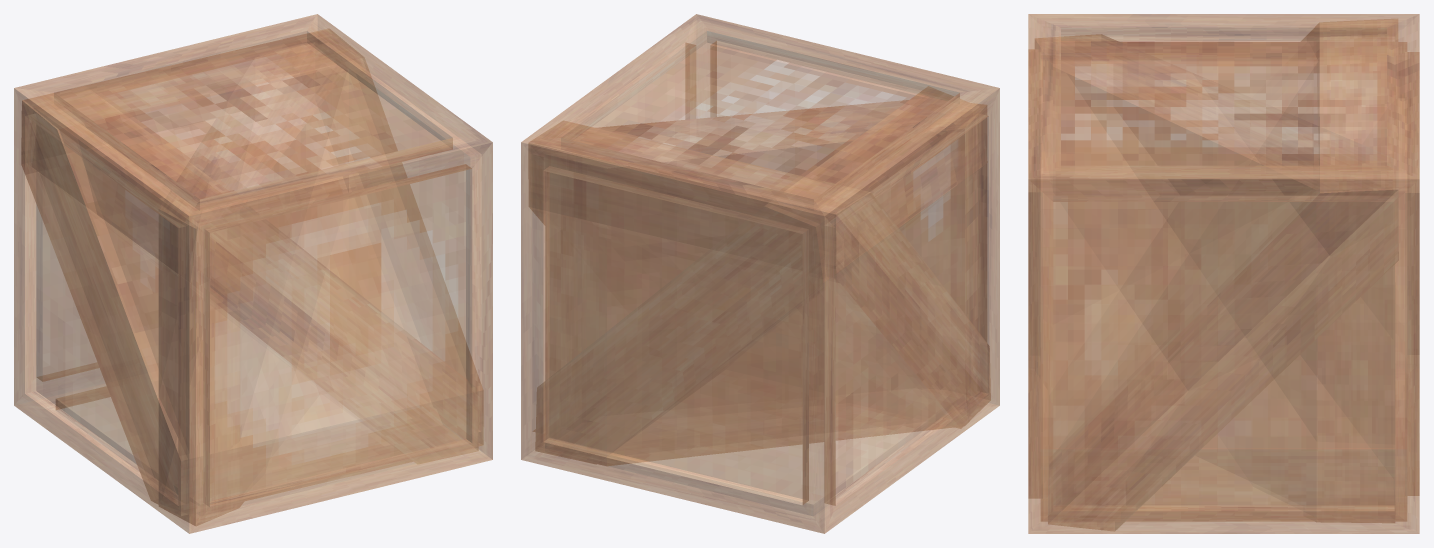
File: Cajita.gltf
3 views of the same model, side by side, from view 1: azimuth 30°, elevation 25°; view 2: azimuth 150°, elevation 25°; view 3: azimuth 270°, elevation 25° (orthographic). The views are drawn at different scales.
Visible parts, largest first — view 1: Cube; view 2: Cube; view 3: Cube.
Part boxes in pixels (bbox=[...]): Cube: bbox=[14, 14, 492, 533]; Cube: bbox=[521, 14, 999, 533]; Cube: bbox=[1028, 14, 1419, 533].
Size of the model in its own units: 2.03 by 2 by 2.
Materials: 1 (1 with a texture image).
